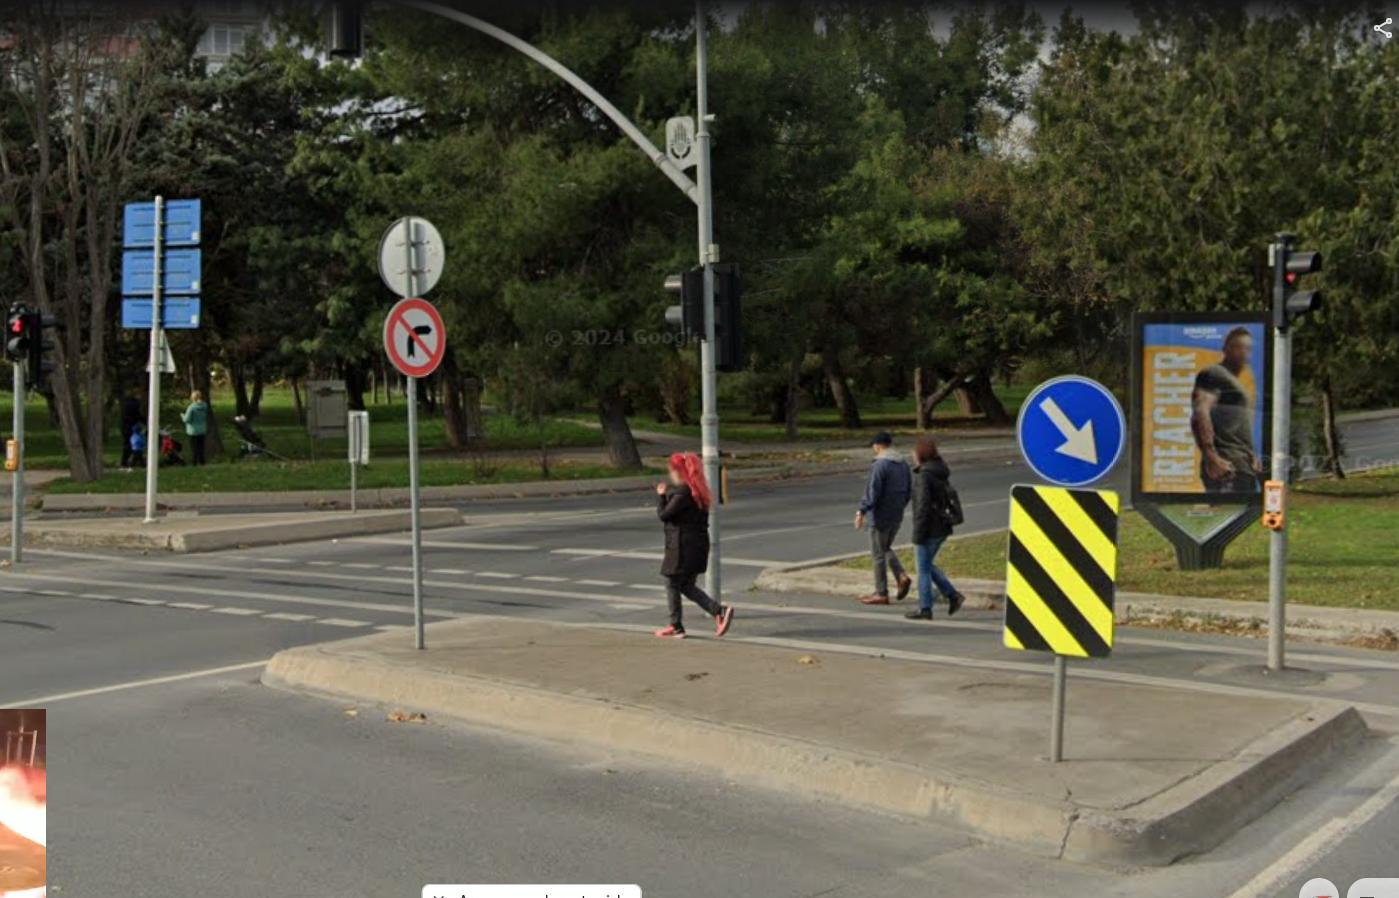rightturnsareforbidden: (383, 300, 445, 372)
